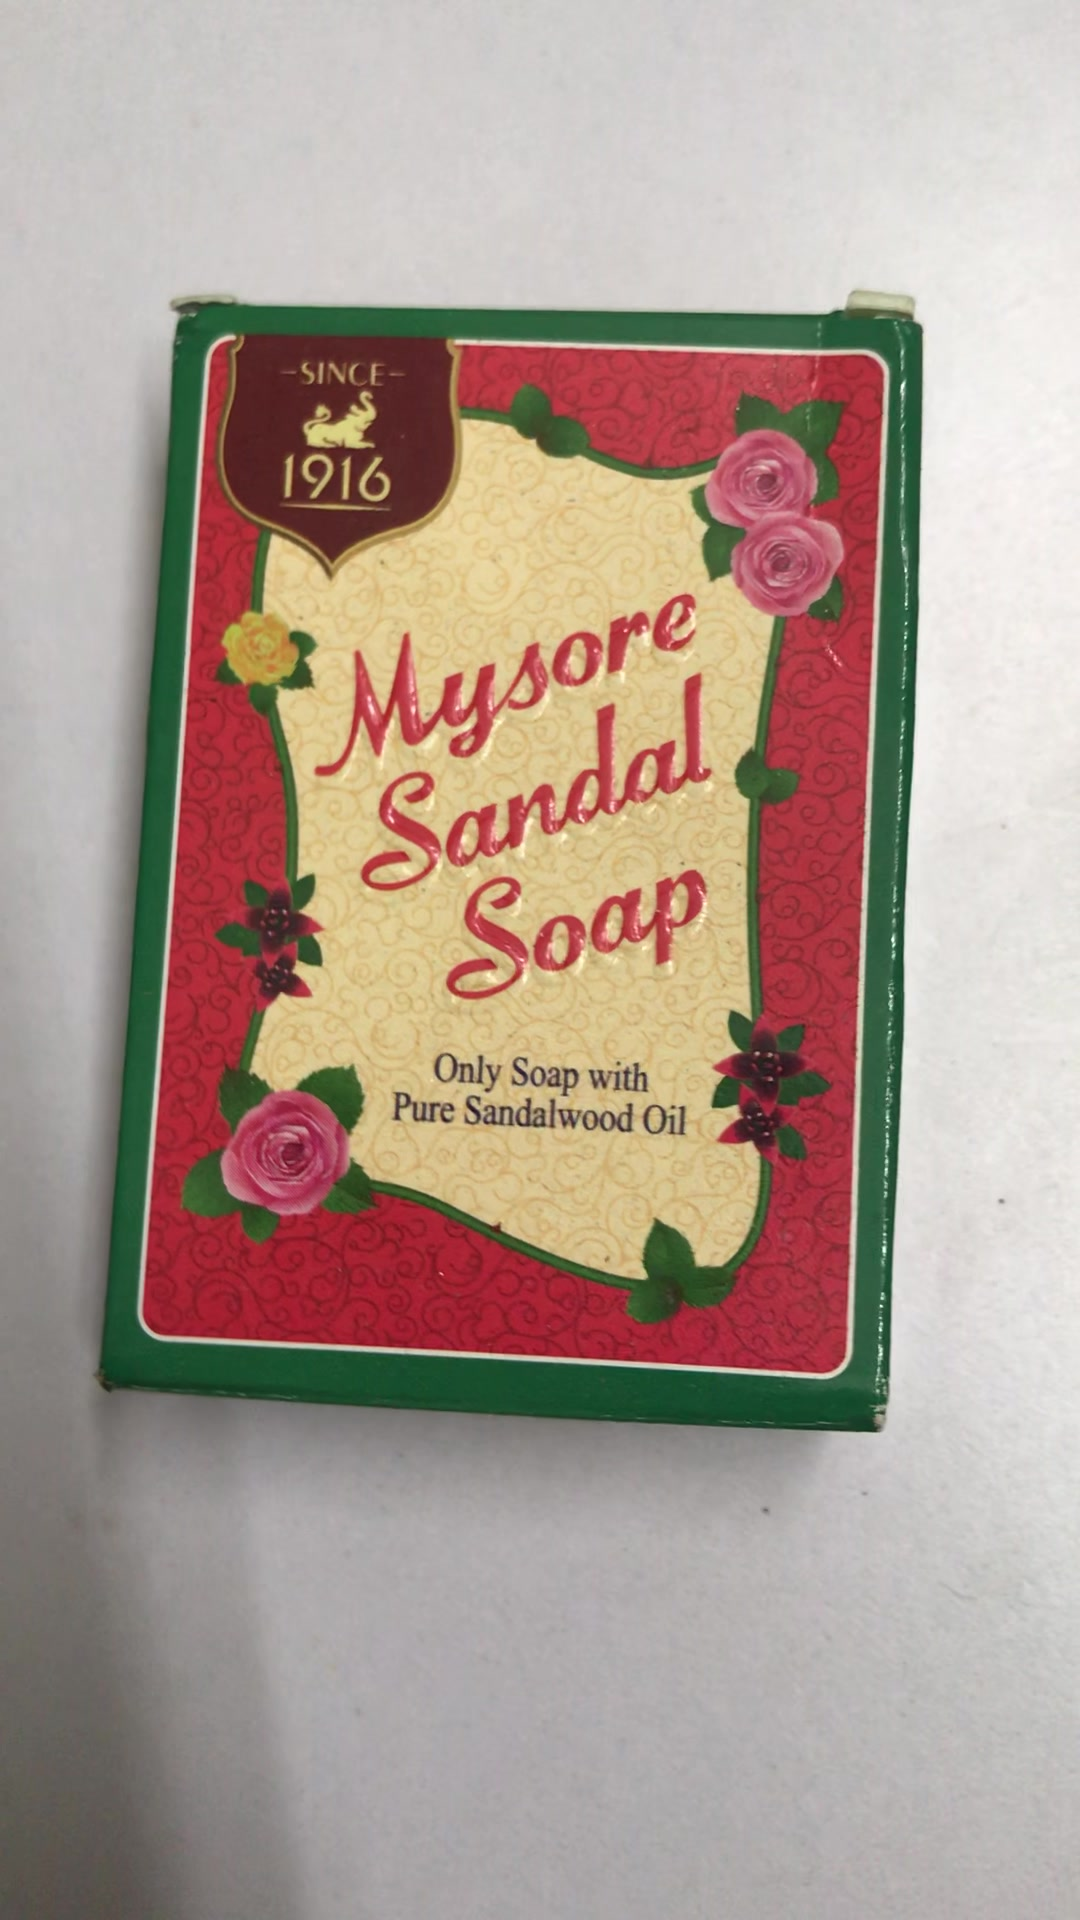mysore sandal soap: (102, 301, 924, 1431)
